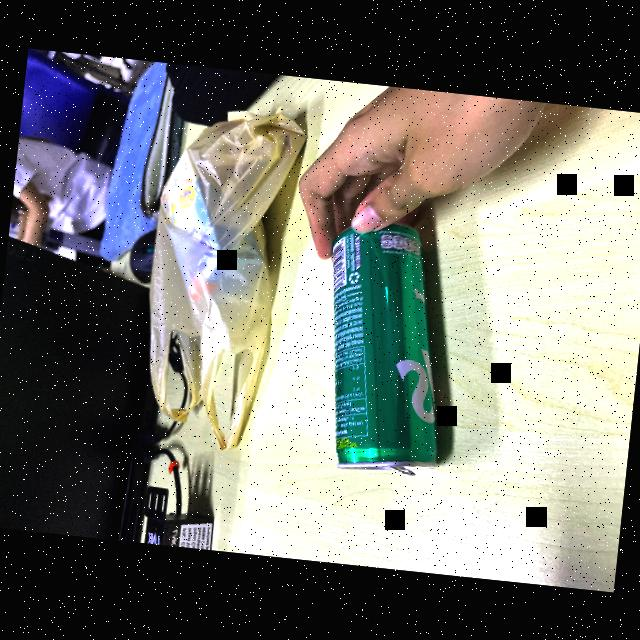can: (300, 193, 470, 482)
